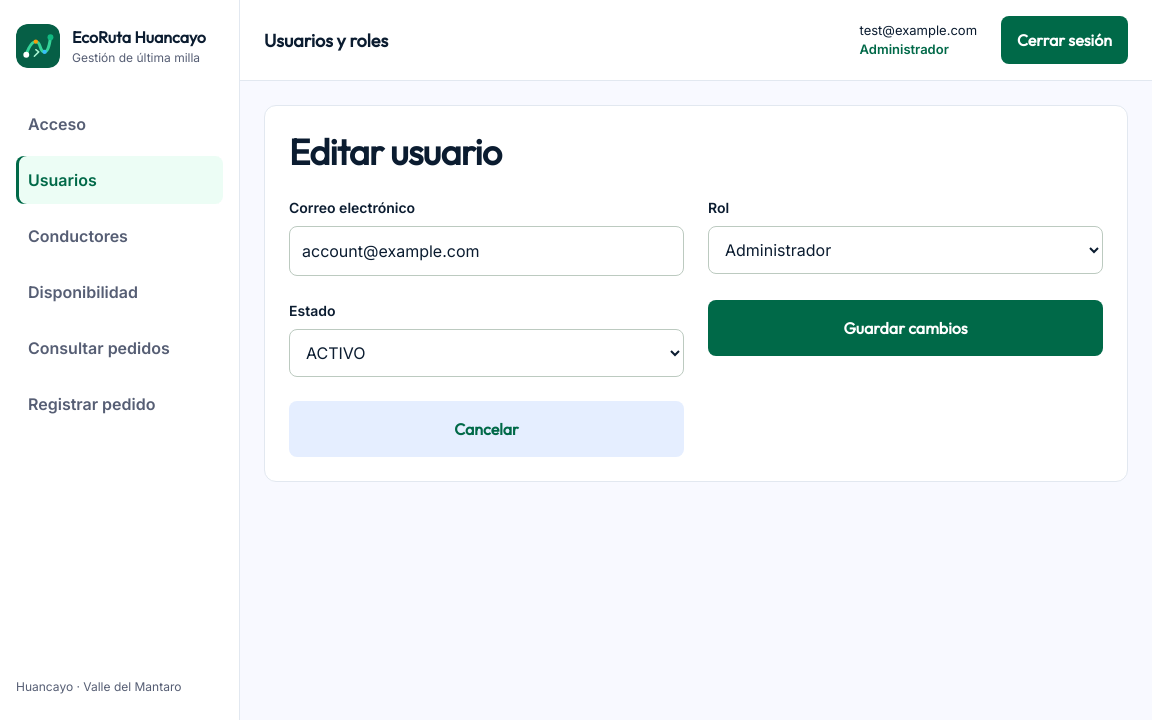
US-003 interfaz › muestra fallo al guardar sin perder datos: {"status":409}
Expected: the field labelled "Correo electrónico" is shown, [289,226,684,276]
Click the button "Guardar cambios" at (906, 328), box [708,300,1103,356]
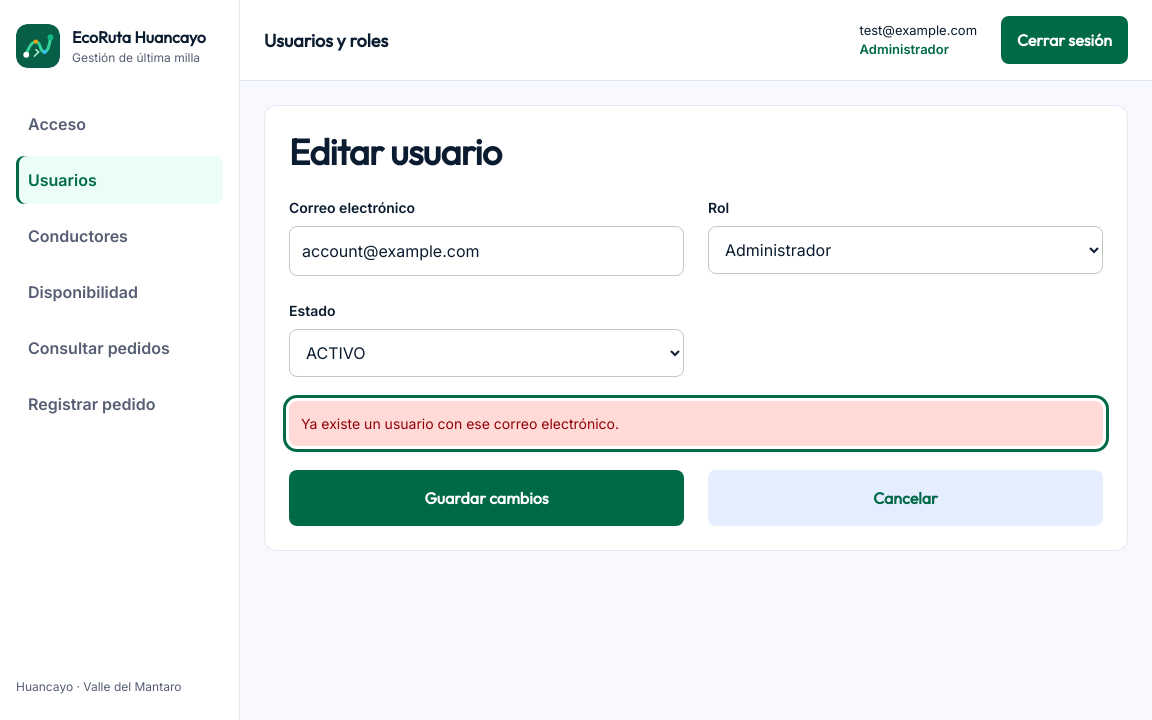
Expected: the field labelled "Correo electrónico" holds "account@example.com", [289,226,684,276]
Expected: the message "Ya existe un usuario con ese correo electrónico." is shown, [289,401,1103,446]
